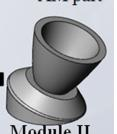thruster: (32, 15, 107, 91)
